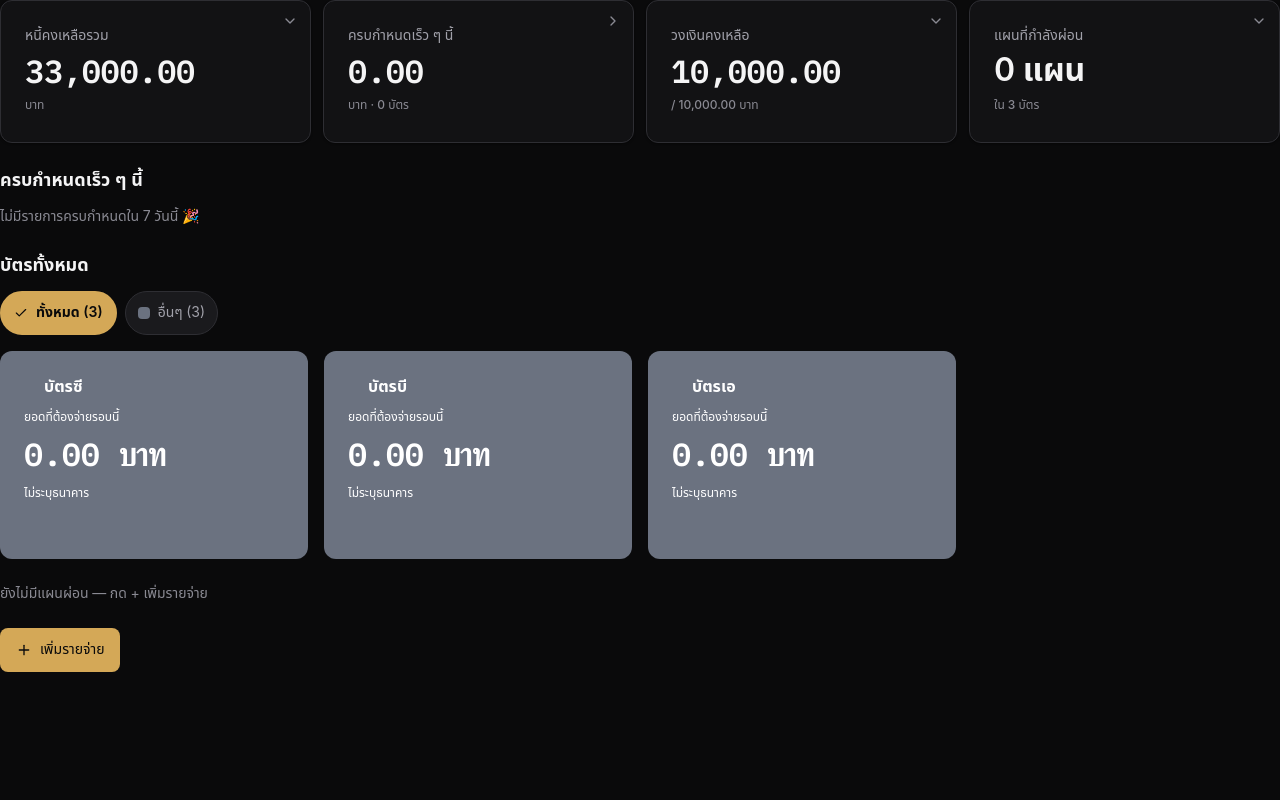
CreditCardDashboard KPI drill-down › toggles the panel with aria-expanded/aria-controls and a single panel id
Check: the element "หนี้คงเหลือแยกตามบัตร" is not shown
Step 1. Click the button "หนี้คงเหลือรวม 33,000.00 บาท" → (156, 71), box [0,0,311,143]
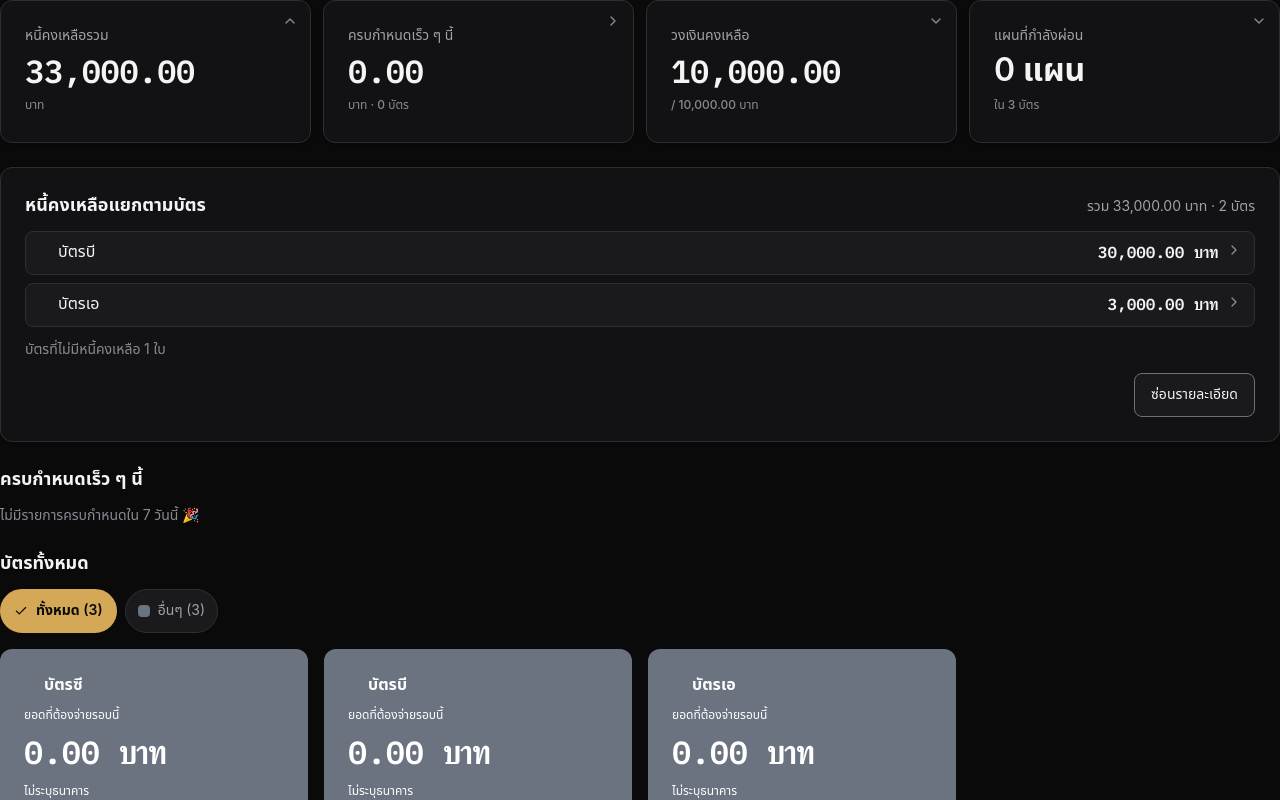
Check: the button "หนี้คงเหลือรวม 33,000.00 บาท" is expanded
Check: the number of elements with id "cc-debt-breakdown" is 1, box [0,167,1279,442]
Check: the text "รวม 33,000.00 บาท · 2 บัตร" is shown, box [1087,196,1255,218]
Step 2. Click the button "หนี้คงเหลือรวม 33,000.00 บาท" → (156, 71), box [0,0,311,143]
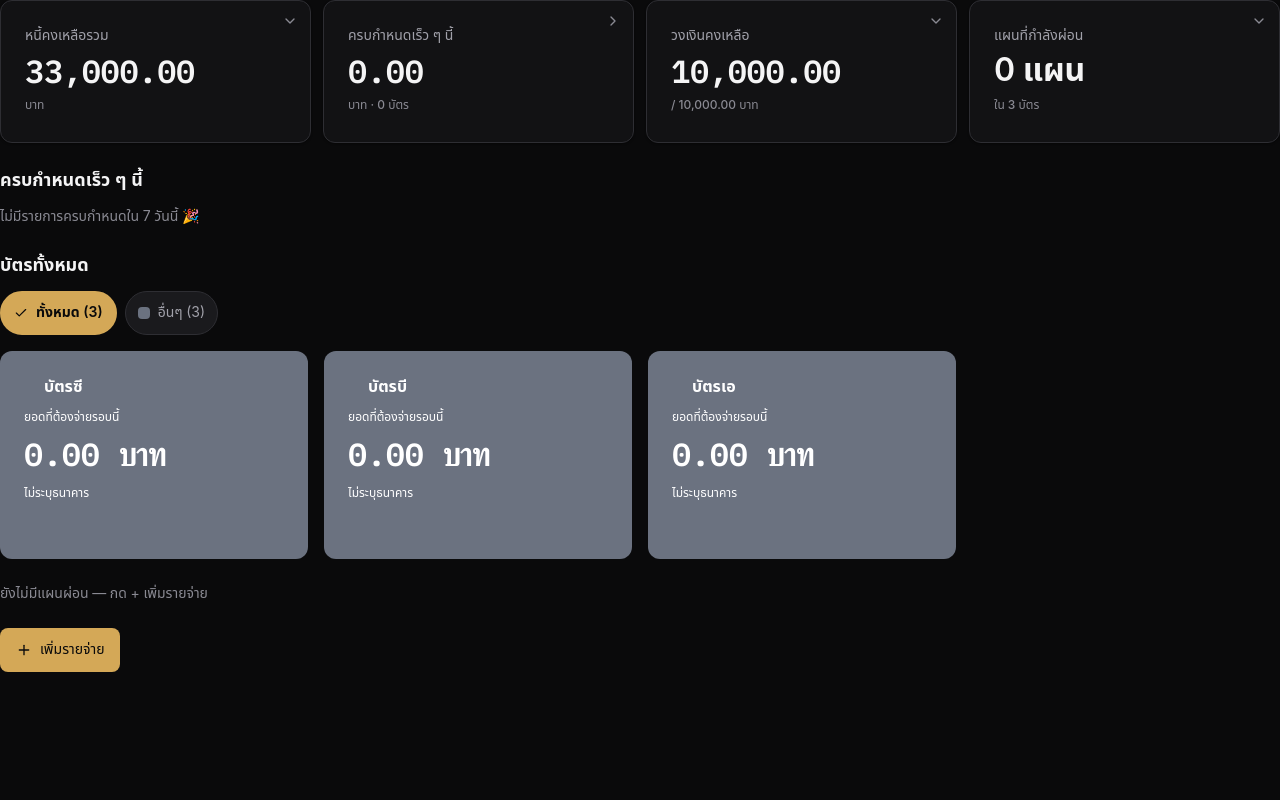
Check: the heading "หนี้คงเหลือแยกตามบัตร" is gone
